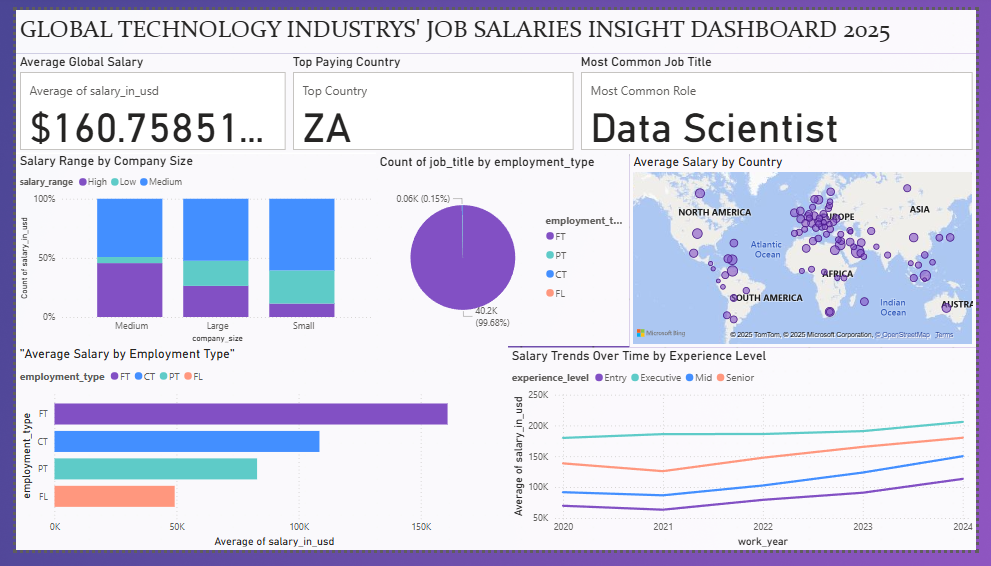

The dashboard page shown, as its layout file describes it:
{"tool":"powerbi","page":{"name":"Page 1","canvas":[1280,720],"ordinal":0},"visuals":[{"type":"barChart","title":"\"Average Salary by Employment Type\"","fields":{"Series":["Salaries.employment_type"],"Category":["Salaries.employment_type"],"Y":["Avg(Salaries.salary_in_usd)"]},"box":[0,448,656,272],"z":0},{"type":"map","title":"Average Salary by Country","fields":{"Category":["Salaries.employee_residence"],"Size":["Avg(Salaries.salary_in_usd)"]},"box":[818,192,462,258],"z":1000},{"type":"lineChart","title":"Salary Trends Over Time by Experience Level","fields":{"Category":["Salaries.work_year"],"Y":["Avg(Salaries.salary_in_usd)"],"Series":["Salaries.experience_level"]},"box":[656,450,624,270],"z":2000},{"type":"pieChart","fields":{"Category":["Salaries.employment_type"],"Y":["CountNonNull(Salaries.job_title)"]},"box":[480,192,338,256],"z":3000},{"type":"hundredPercentStackedColumnChart","title":"Salary Range by Company Size","fields":{"Category":["Salaries.company_size"],"Series":["Salaries.salary_range"],"Y":["Count(Salaries.salary_in_usd)"]},"box":[0,190,480,258],"z":4000},{"type":"cardVisual","title":"Average Global Salary","fields":{"Data":["Avg(Salaries.salary_in_usd)"]},"box":[0,58,364,134],"z":5000},{"type":"cardVisual","title":"Top Paying Country","fields":{"Data":["Salaries.Top Country"]},"box":[364,58,384,134],"z":6000},{"type":"cardVisual","title":"Most Common Job Title","fields":{"Data":["Salaries.Most Common Role"]},"box":[748,58,532,134],"z":7000},{"type":"textbox","box":[0,0,1280,58],"z":8000}]}

Visuals, with their boxes in screenshot pixels (x1, y1, x2, y2), scaled from the page's 1280x720 canvas onto the 991x566 screenshot:
""Average Salary by Employment Type"" barChart: (0, 352, 508, 565)
"Average Salary by Country" map: (633, 151, 990, 354)
"Salary Trends Over Time by Experience Level" lineChart: (508, 354, 990, 565)
pieChart - Salaries.employment_type x CountNonNull(Salaries.job_title): (372, 151, 633, 352)
"Salary Range by Company Size" hundredPercentStackedColumnChart: (0, 149, 372, 352)
"Average Global Salary" cardVisual: (0, 46, 282, 151)
"Top Paying Country" cardVisual: (282, 46, 579, 151)
"Most Common Job Title" cardVisual: (579, 46, 990, 151)
textbox: (0, 0, 990, 46)
